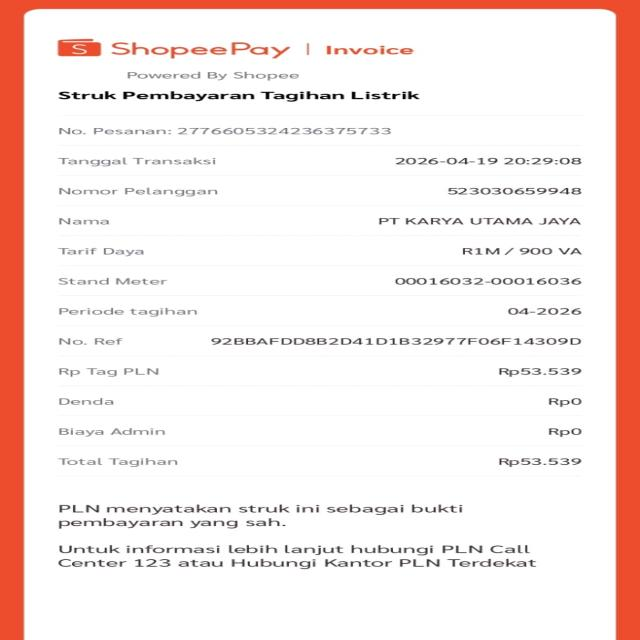date: (390, 154, 594, 170)
store: (48, 87, 440, 103)
total: (51, 453, 598, 472)
